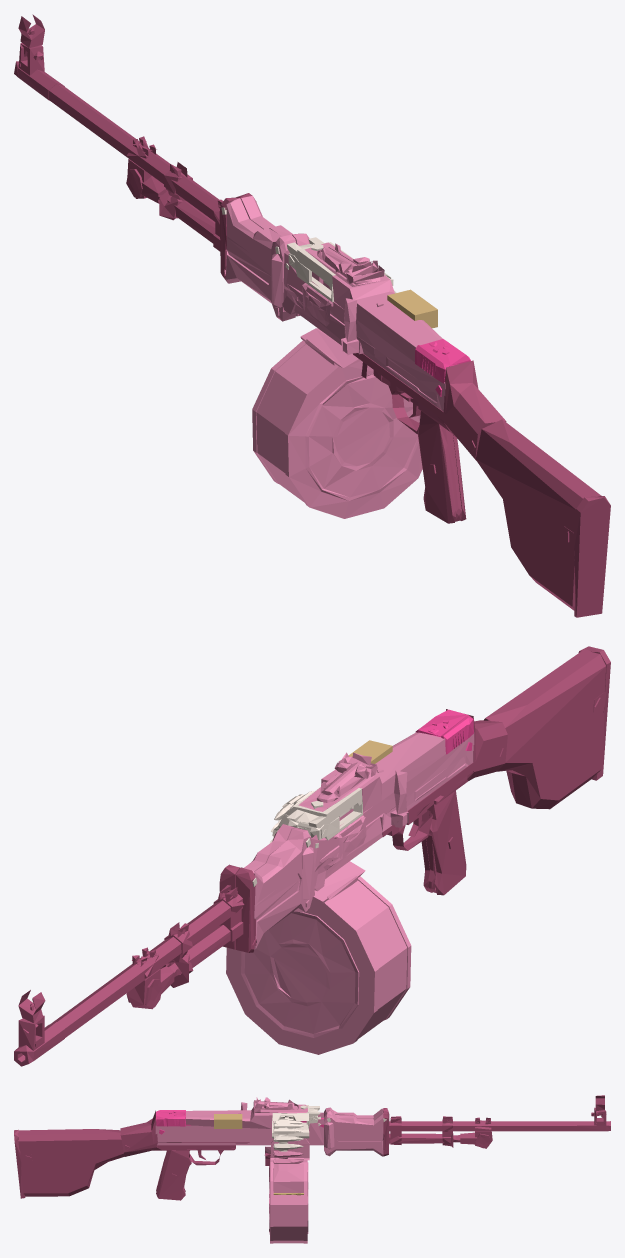
File: LMG_RPD.obj
The picture shows the model from 3 angles, top to bottom: view 1: azimuth 30°, elevation 25°; view 2: azimuth 150°, elevation 25°; view 3: azimuth 270°, elevation 25°; orthographic projection. The views are drawn at different scales.
Visible parts, largest first — view 1: Body, Grip, Mag, Panel, Accent, Bolt; view 2: Body, Grip, Mag, Panel, Accent; view 3: Body, Grip, Mag, Panel, Accent, Bolt.
Part boxes in pixels (x1,y1,x2,y2): Body: [224, 196, 445, 518]; Grip: [353, 353, 610, 617]; Mag: [14, 14, 252, 282]; Panel: [221, 201, 396, 302]; Accent: [415, 339, 470, 396]; Bolt: [387, 289, 437, 328]; Body: [226, 732, 474, 1054]; Grip: [382, 646, 610, 895]; Mag: [14, 865, 256, 1066]; Panel: [252, 787, 362, 886]; Accent: [415, 709, 473, 754]; Body: [155, 1097, 383, 1243]; Grip: [14, 1110, 270, 1200]; Mag: [383, 1095, 610, 1156]; Panel: [272, 1105, 386, 1151]; Accent: [156, 1110, 323, 1134]; Bolt: [214, 1114, 242, 1128].
Size of the model in its own units: 0.6303 by 1.08 by 4.2.
